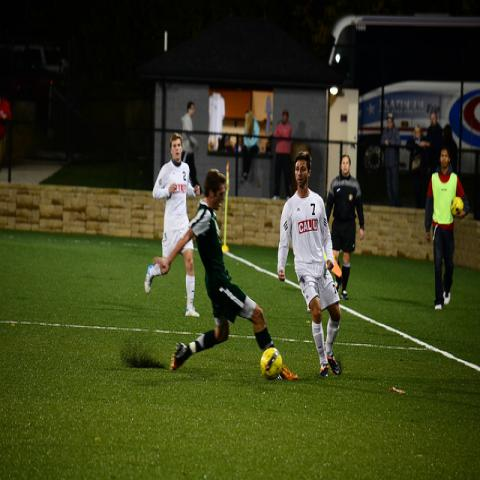bus: (328, 16, 479, 213)
